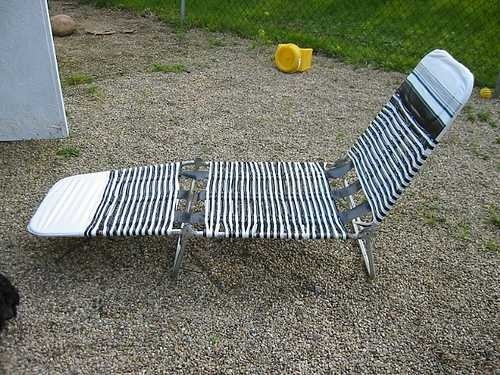obstacle: (27, 49, 473, 276), (274, 43, 312, 72)
